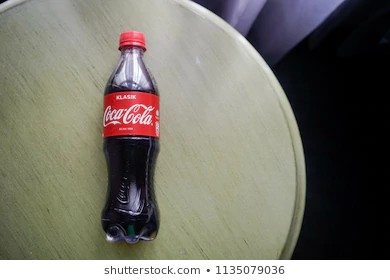coke-bottle-700ml: (86, 25, 164, 242)
